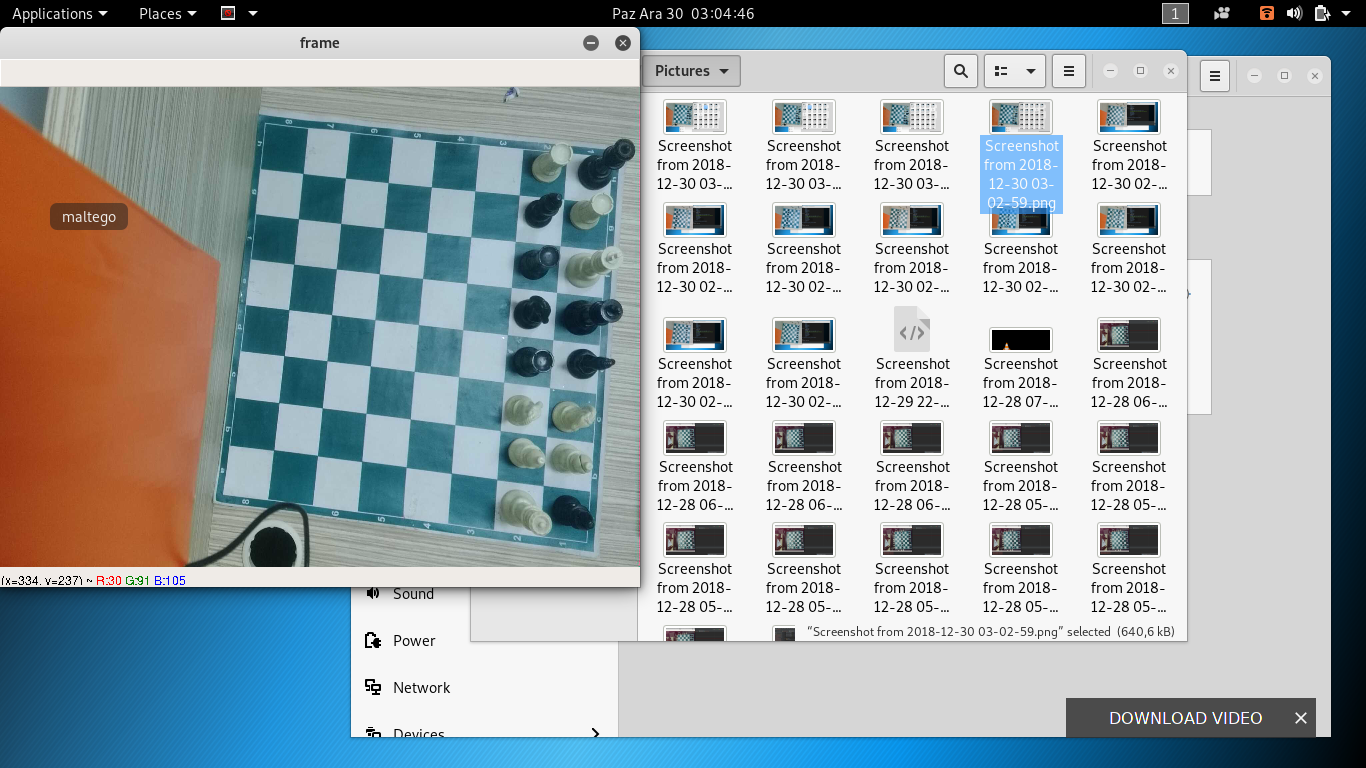BeyazAt: (550, 401, 598, 433), (506, 394, 545, 425)
BeyazFil: (550, 442, 594, 477), (507, 437, 545, 471)
BeyazKale: (569, 190, 613, 232), (530, 141, 574, 182)
BeyazSah: (567, 244, 626, 288)
BeyazVezir: (499, 487, 553, 534)
SiyahAt: (564, 347, 615, 378), (514, 292, 552, 332)
SiyahFil: (553, 494, 594, 532), (524, 192, 565, 229)
SiyahKale: (516, 245, 561, 280), (511, 346, 554, 376)
SiyahSah: (562, 297, 626, 335)
SiyahVezir: (580, 138, 635, 189)
